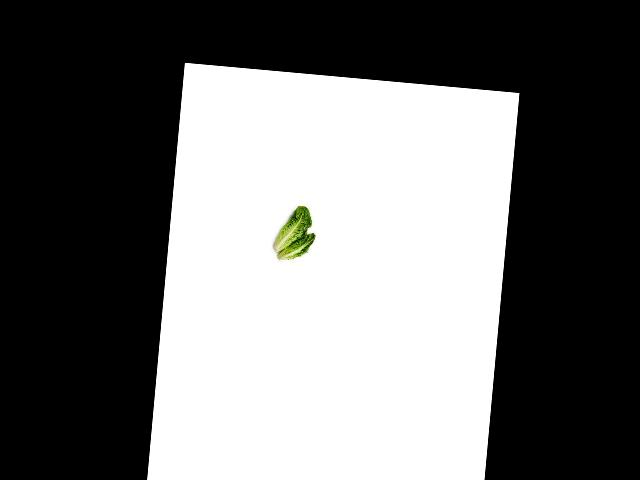lettuce: (270, 203, 314, 251)
